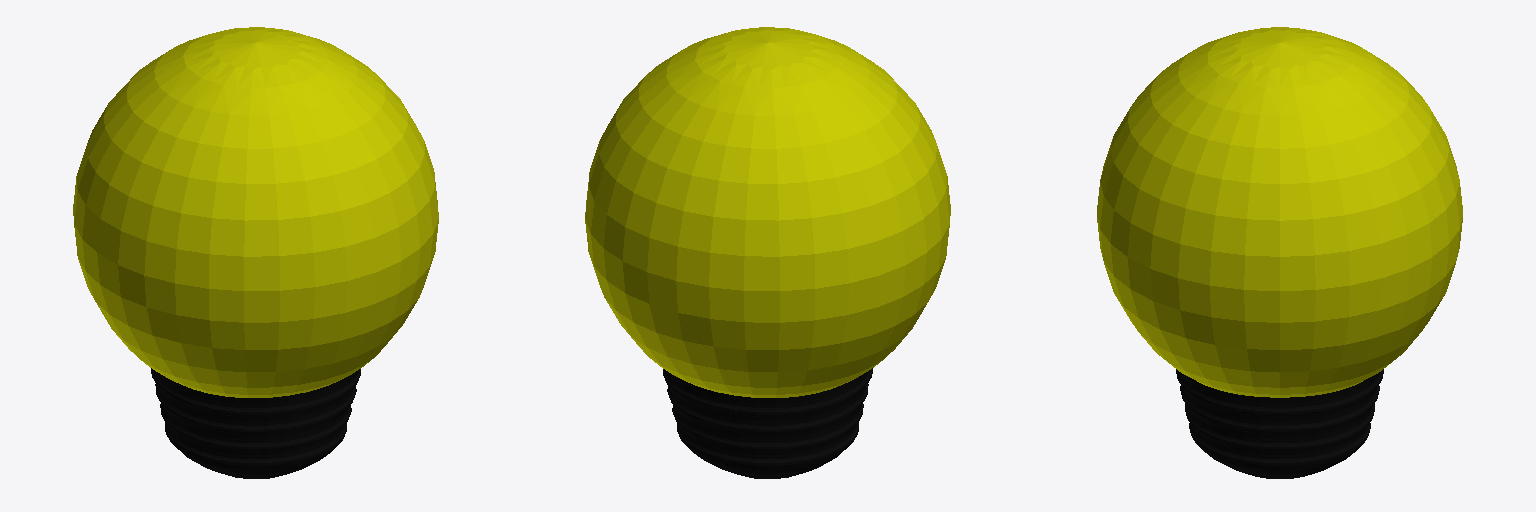
The model's file is lightbulb.obj.
3 renders of one model, left to right at view 1: azimuth 30°, elevation 25°; view 2: azimuth 150°, elevation 25°; view 3: azimuth 270°, elevation 25°, orthographic.
Parts seen in each view (by area): view 1: Bulb_Sphere; view 2: Bulb_Sphere; view 3: Bulb_Sphere.
Part boxes in pixels (x1,y1,x2,y2): Bulb_Sphere: (73,27,438,478); Bulb_Sphere: (585,27,950,478); Bulb_Sphere: (1097,27,1462,478).
Bounding box in the file's own units: 1.92 × 2.47 × 1.92.